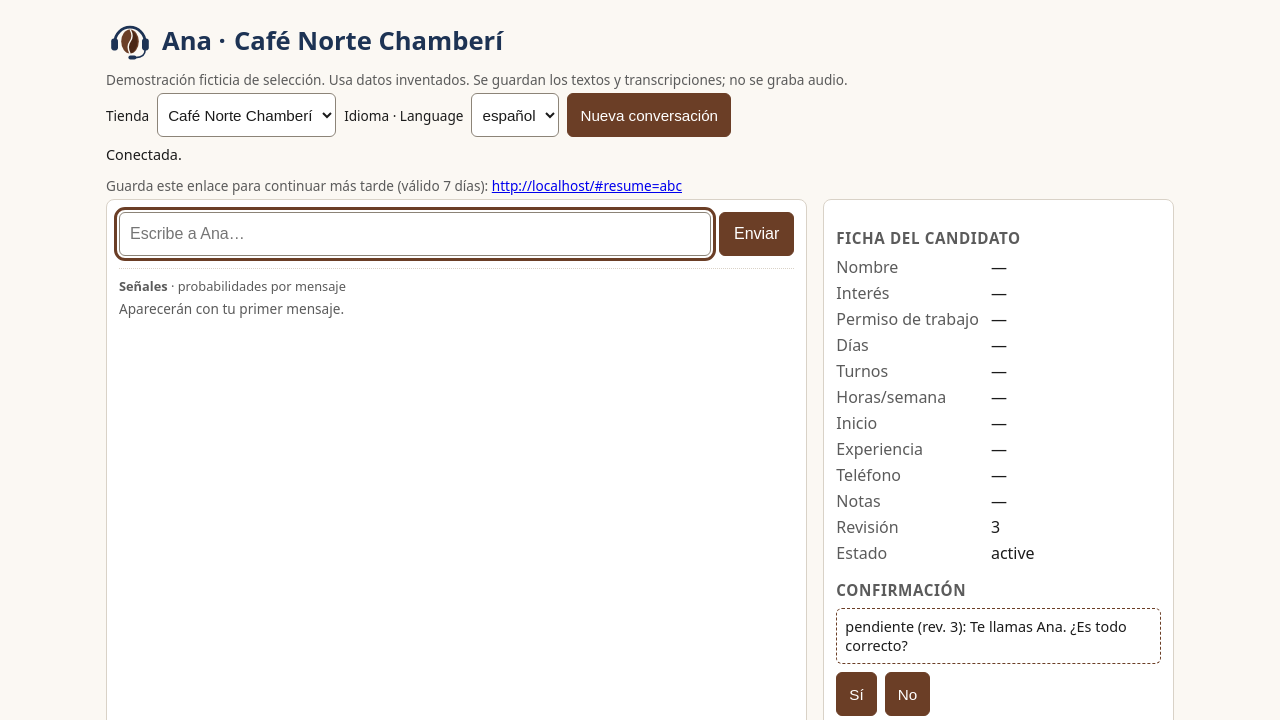
Test: App › answers a pending read-back with Sí
This screenshot has width=1280, height=720.
Expected: the text "Conectada." is shown, [106,145,182,164]
Click the button "Sí": click(856, 694) [836,672,877,716]
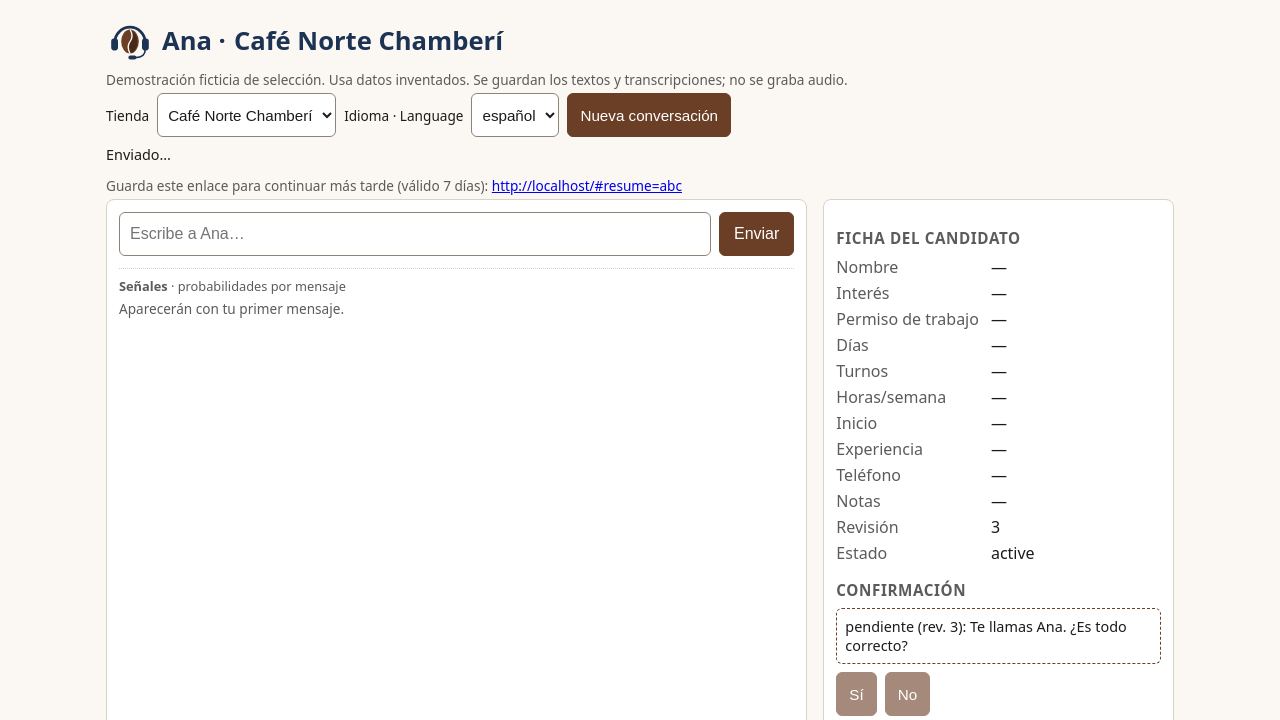
Expected: the button "Sí" is disabled, [836,672,877,716]
